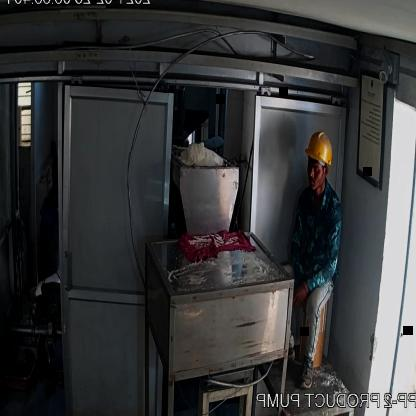helmet: (303, 131, 335, 168)
